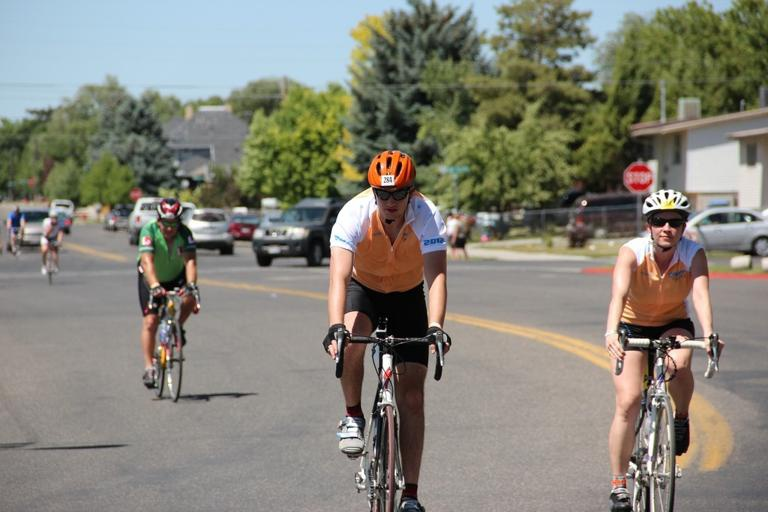non-vehicle: (333, 326, 445, 512), (614, 323, 719, 512), (145, 283, 200, 400), (40, 239, 57, 285), (5, 226, 25, 256)
